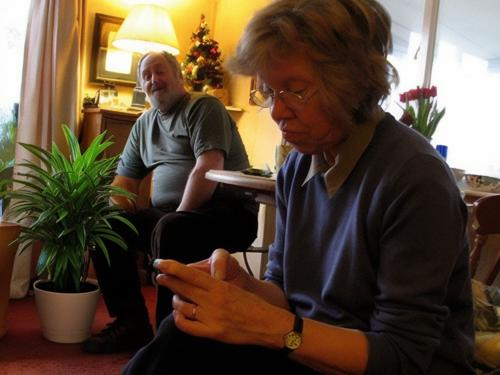chair: (470, 192, 500, 285)
dog: (2, 177, 70, 230)
person: (124, 1, 475, 375), (79, 53, 258, 356)
person/foot: (82, 326, 154, 354)
person/hand: (157, 261, 272, 346), (186, 249, 261, 299), (78, 166, 109, 193)
person/head: (258, 1, 389, 154), (136, 52, 185, 111)
pottedplant: (1, 123, 139, 343)
